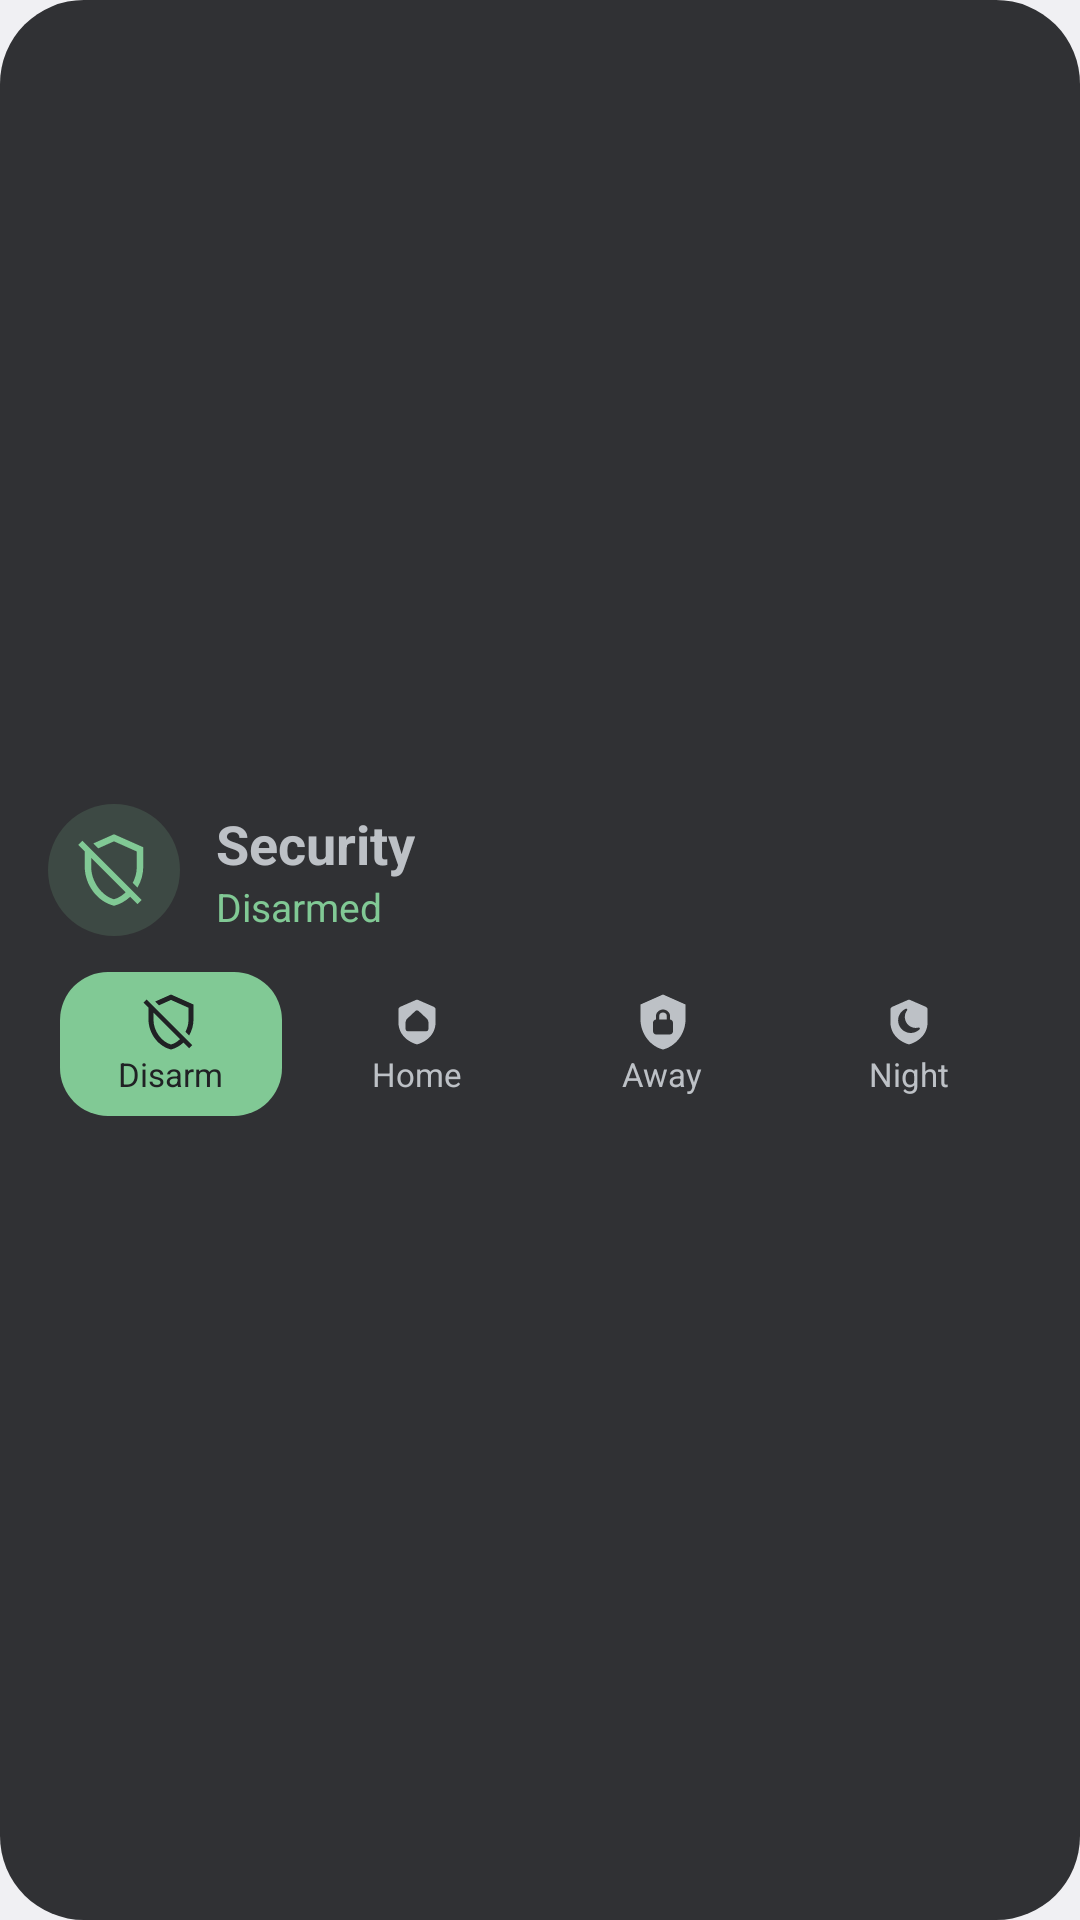

Point at icon controls on the screen. Image size 1080*1920, points as (x,y).
shield lock: (663,1022)
shield moon: (909,1022)
shield off: (111,870), (168,1022)
